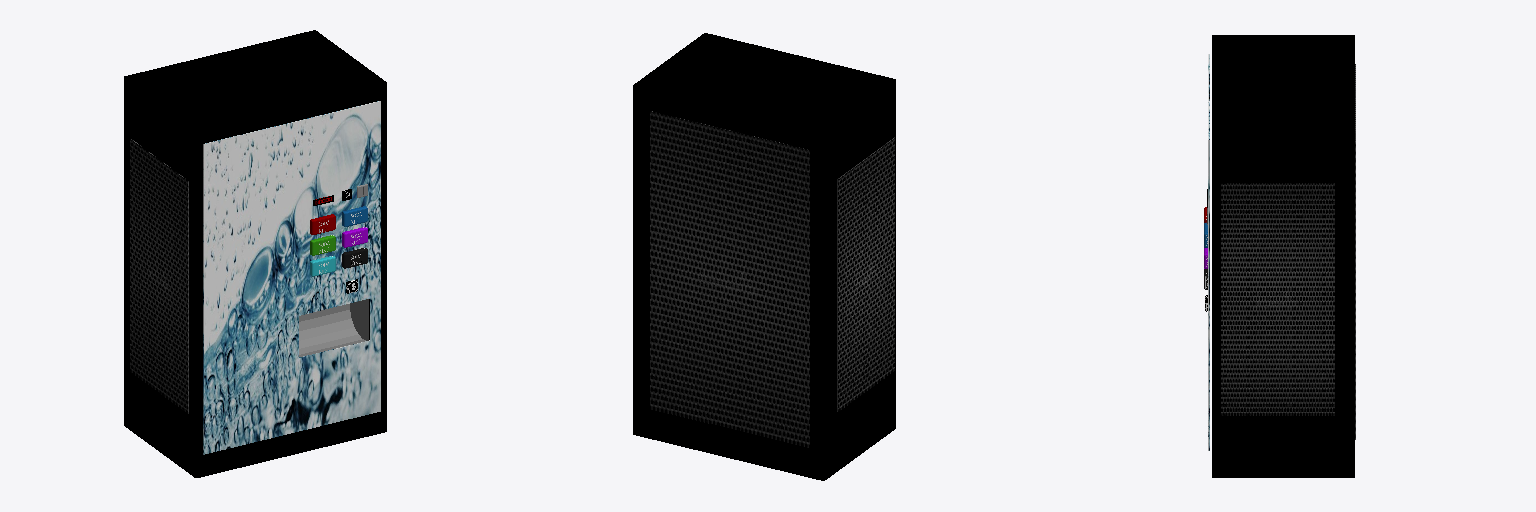
The picture shows the model from 3 angles: view 1: azimuth 30°, elevation 25°; view 2: azimuth 150°, elevation 25°; view 3: azimuth 270°, elevation 25°; orthographic projection.
Visible parts, largest first — view 1: Box010; view 2: Box010; view 3: Box010.
Part boxes in pixels (bbox=[...]): Box010: bbox=[124, 30, 386, 477]; Box010: bbox=[633, 33, 895, 480]; Box010: bbox=[1204, 35, 1355, 477].
Bounding box in the file's own units: 20.49 × 35 × 13.79.
13 materials, 13 textured.